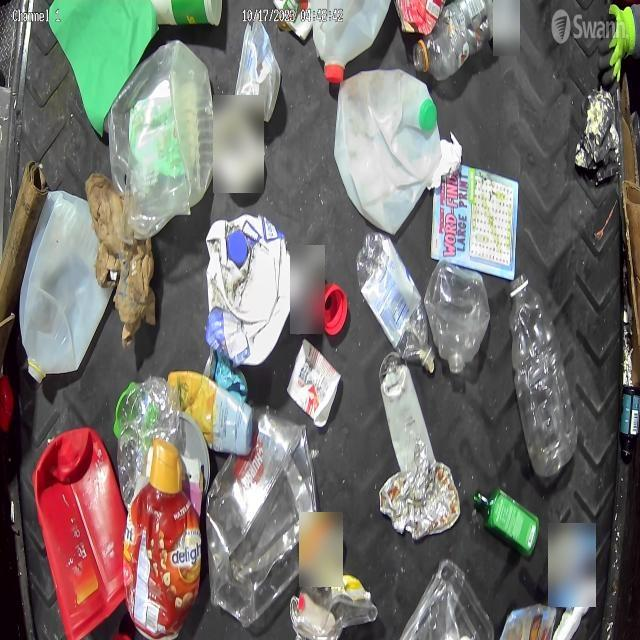milk_jug: (19, 190, 108, 383), (334, 68, 440, 230), (309, 0, 391, 83)
non_white_jug: (32, 426, 128, 636), (124, 439, 202, 640)
plastic_bottle: (506, 272, 578, 482), (356, 226, 439, 374), (424, 263, 492, 377), (416, 2, 492, 78)
